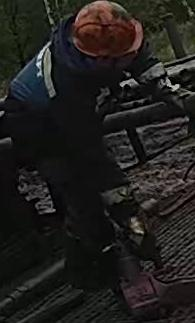gloves: (116, 205, 165, 269), (154, 73, 193, 115)
helmet: (71, 0, 143, 59)
vest: (6, 39, 148, 181)
